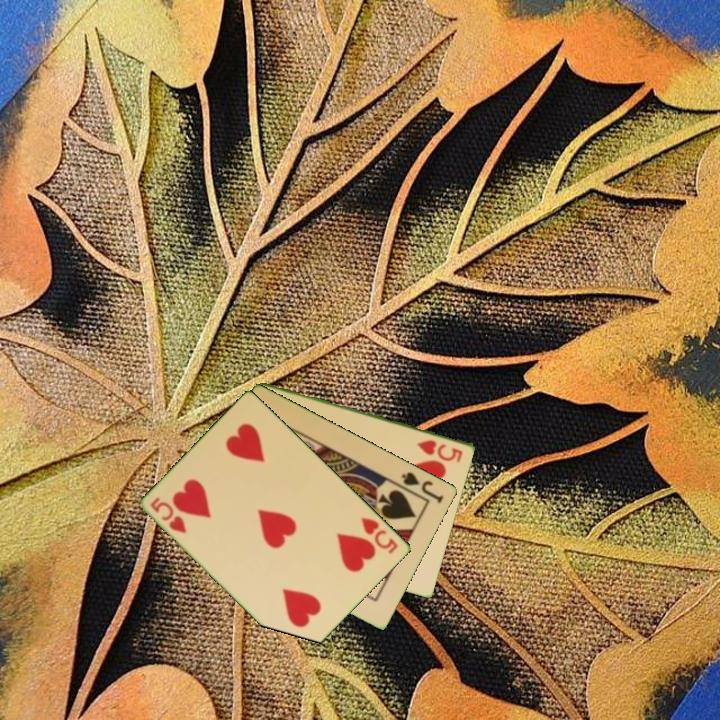5h: (358, 513, 401, 557), (147, 493, 190, 536), (414, 436, 466, 465)
Js: (398, 468, 447, 506)
